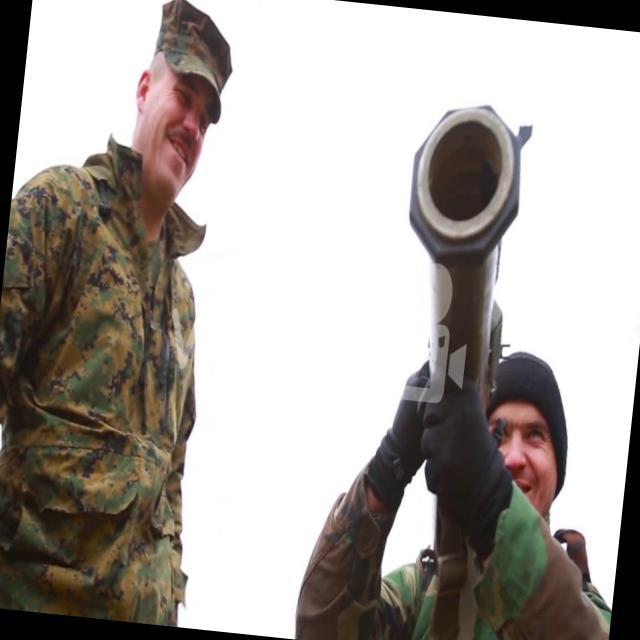rocket: (391, 95, 528, 408)
